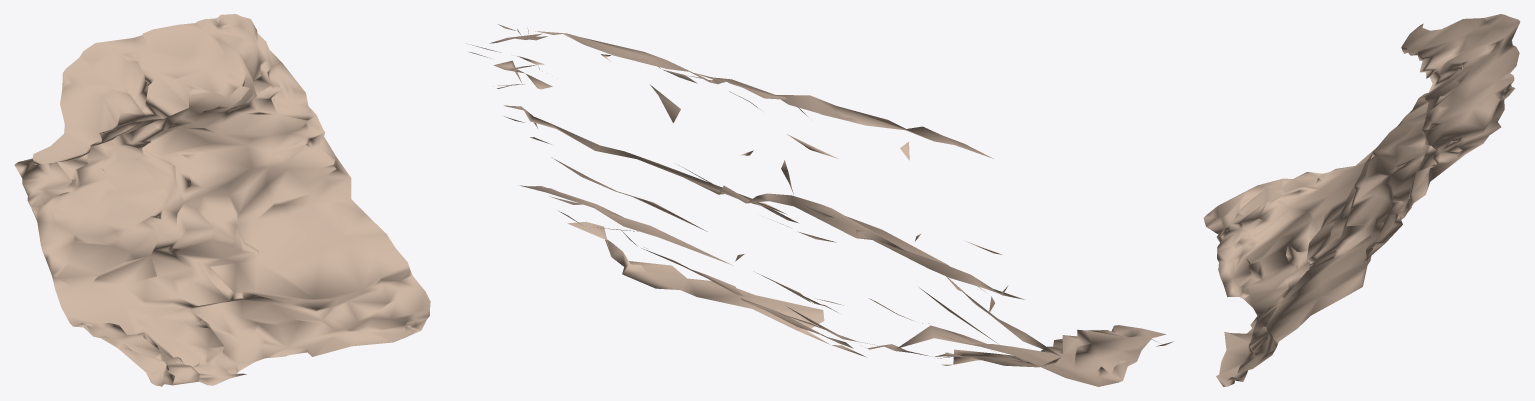
The picture shows the model from 3 angles, left to right: view 1: azimuth 30°, elevation 25°; view 2: azimuth 150°, elevation 25°; view 3: azimuth 270°, elevation 25°; orthographic projection. The views are drawn at different scales.
Parts seen in each view (by area): view 1: rock_face_01; view 2: rock_face_01; view 3: rock_face_01.
Boxes of the visible parts, x1,y1,x2,y2 form: rock_face_01: [14, 14, 430, 386]; rock_face_01: [466, 24, 1173, 386]; rock_face_01: [1203, 14, 1520, 386].
Bounding box in the file's own units: 1 × 0.7185 × 0.772.
